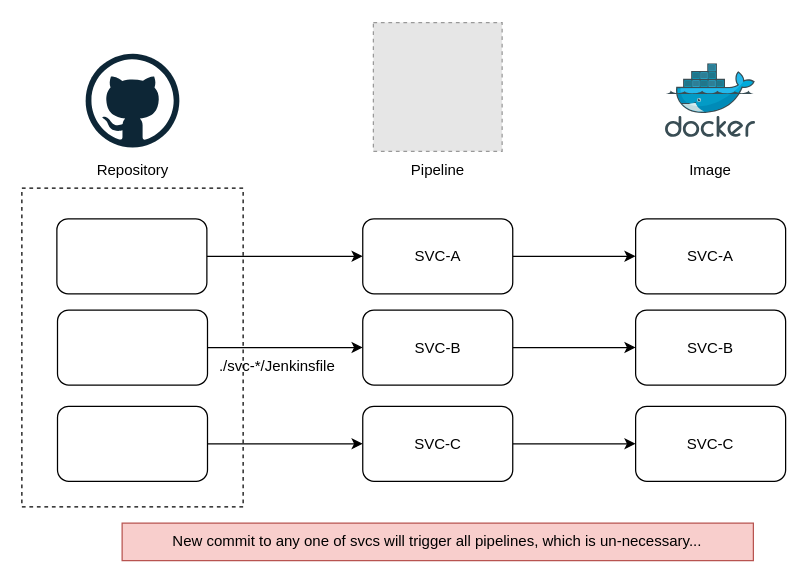
This 808x583 diagram has some shape labels left out. Grey dashed boxes stand in for pictures. Each missing label, with the box of its shape:
./svc-a: (56, 218, 207, 294)
./svc-b: (56, 309, 208, 385)
./svc-c: (56, 405, 208, 481)
